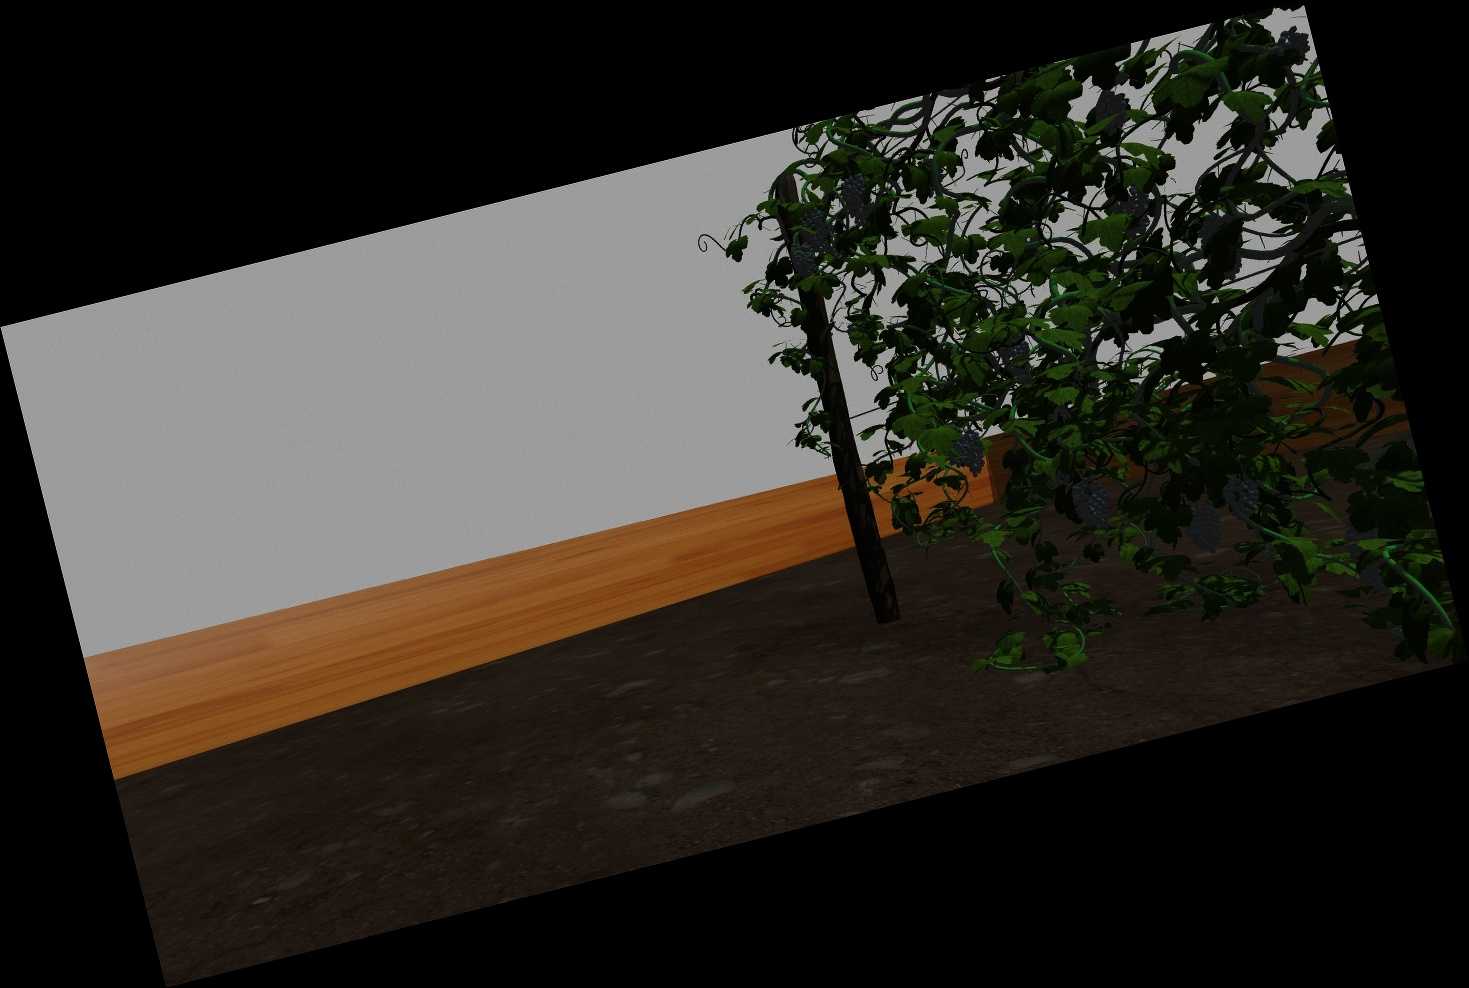grape: (1349, 522, 1388, 594), (1074, 476, 1111, 533), (1187, 500, 1224, 554), (1090, 89, 1129, 137), (1222, 474, 1261, 523), (1276, 26, 1311, 66), (844, 174, 871, 225), (1000, 339, 1033, 380), (962, 428, 988, 477), (802, 206, 828, 253), (790, 241, 814, 279)
